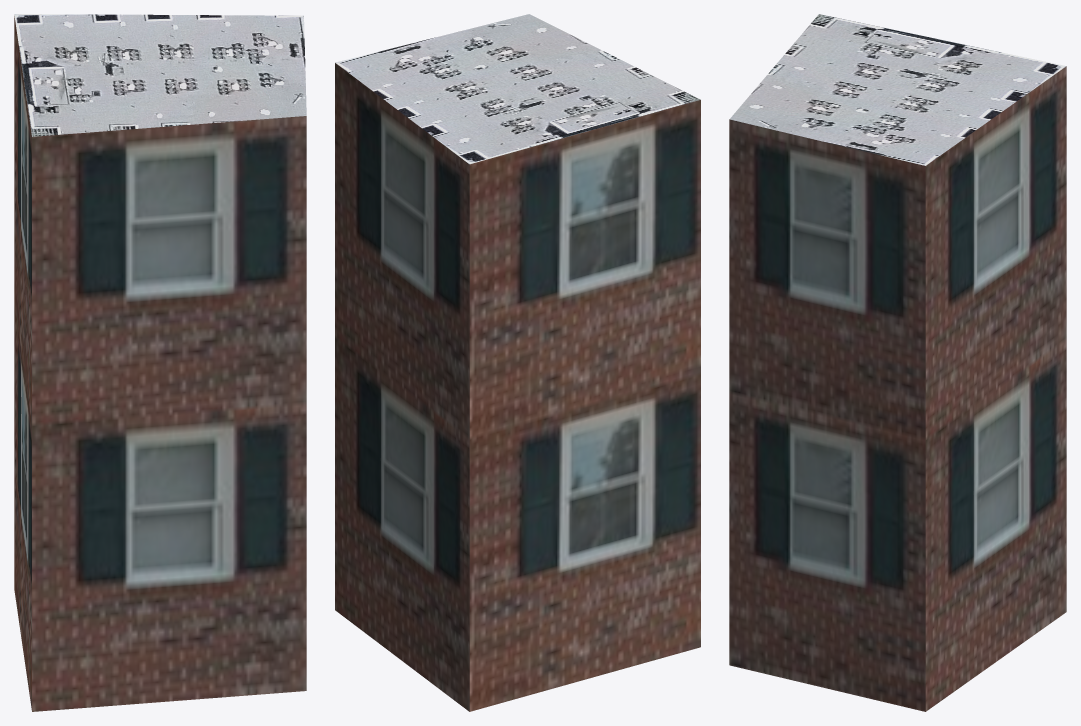
Rendered from ResTex__4580.fbx.
The picture shows the model from 3 angles, left to right: view 1: azimuth 30°, elevation 25°; view 2: azimuth 150°, elevation 25°; view 3: azimuth 270°, elevation 25°; orthographic projection. The views are drawn at different scales.
Visible parts, largest first — view 1: CityEngineMaterial_14_m, CityEngineMaterial_8_m; view 2: CityEngineMaterial_14_m, CityEngineMaterial_8_m; view 3: CityEngineMaterial_14_m, CityEngineMaterial_8_m.
Boxes of the visible parts, x1,y1,x2,y2 form: CityEngineMaterial_14_m: [14, 16, 306, 711]; CityEngineMaterial_8_m: [14, 14, 306, 136]; CityEngineMaterial_14_m: [335, 63, 700, 711]; CityEngineMaterial_8_m: [335, 14, 700, 164]; CityEngineMaterial_14_m: [729, 66, 1066, 711]; CityEngineMaterial_8_m: [730, 14, 1066, 165].
Size of the model in its own units: 3.58 by 6 by 3.36.
Materials: 2 (2 with a texture image).
